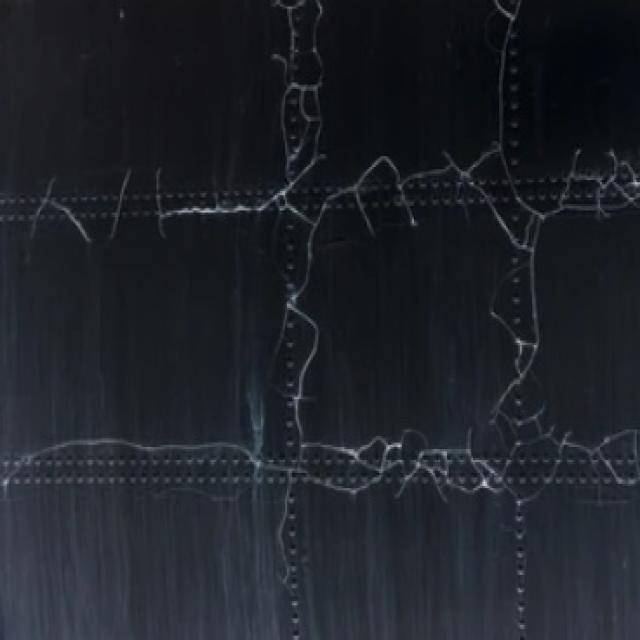crack: (19, 139, 640, 263), (5, 421, 640, 519), (265, 2, 331, 592), (482, 3, 550, 428)
